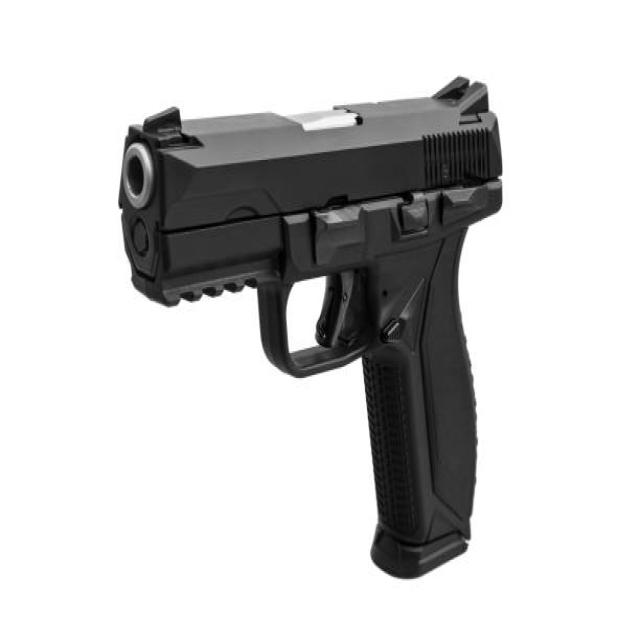pistol: (111, 56, 506, 579)
